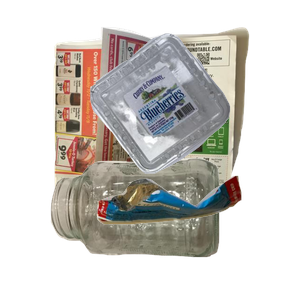glass: (48, 156, 260, 300)
paper: (51, 24, 291, 204)
plastic: (88, 31, 300, 198)
trash: (94, 173, 300, 300)
